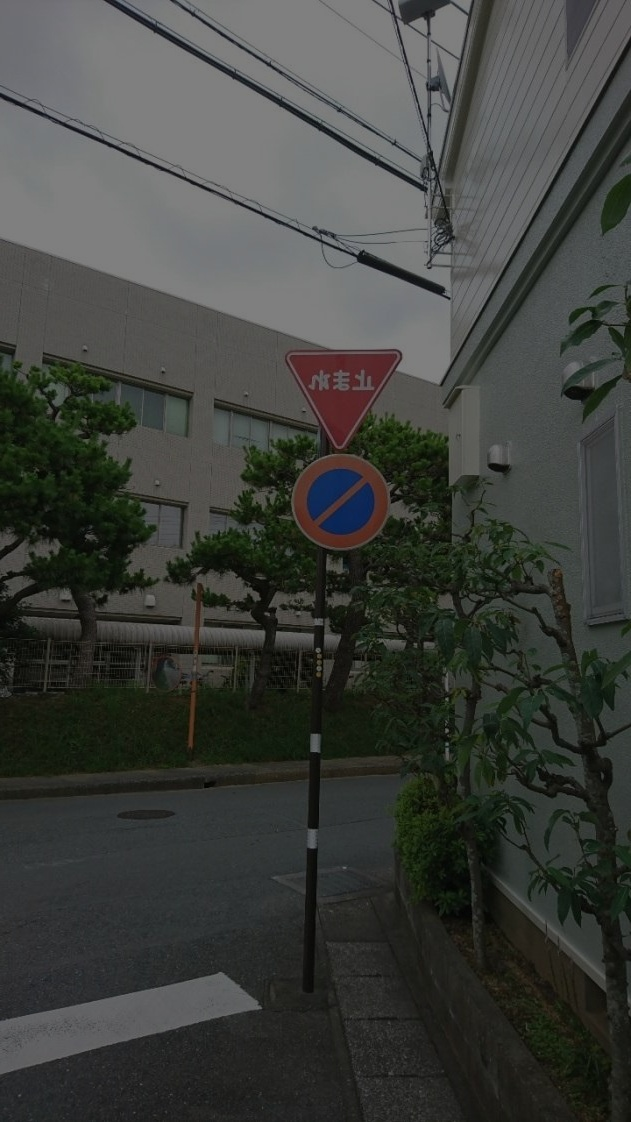Prohibition_sign: (273, 441, 402, 571)
Regulatory_sign_triangle: (282, 339, 415, 445)
